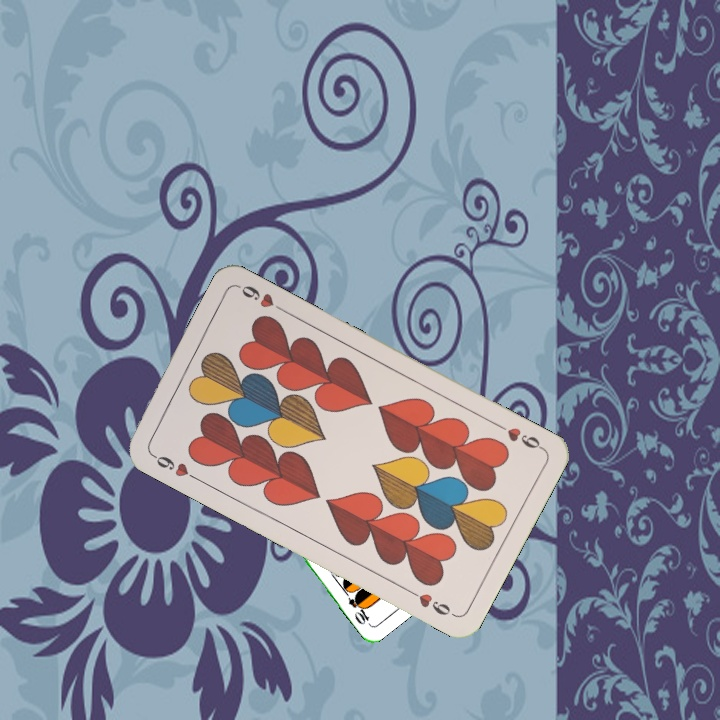H9: (146, 449, 201, 483), (491, 419, 546, 452)
